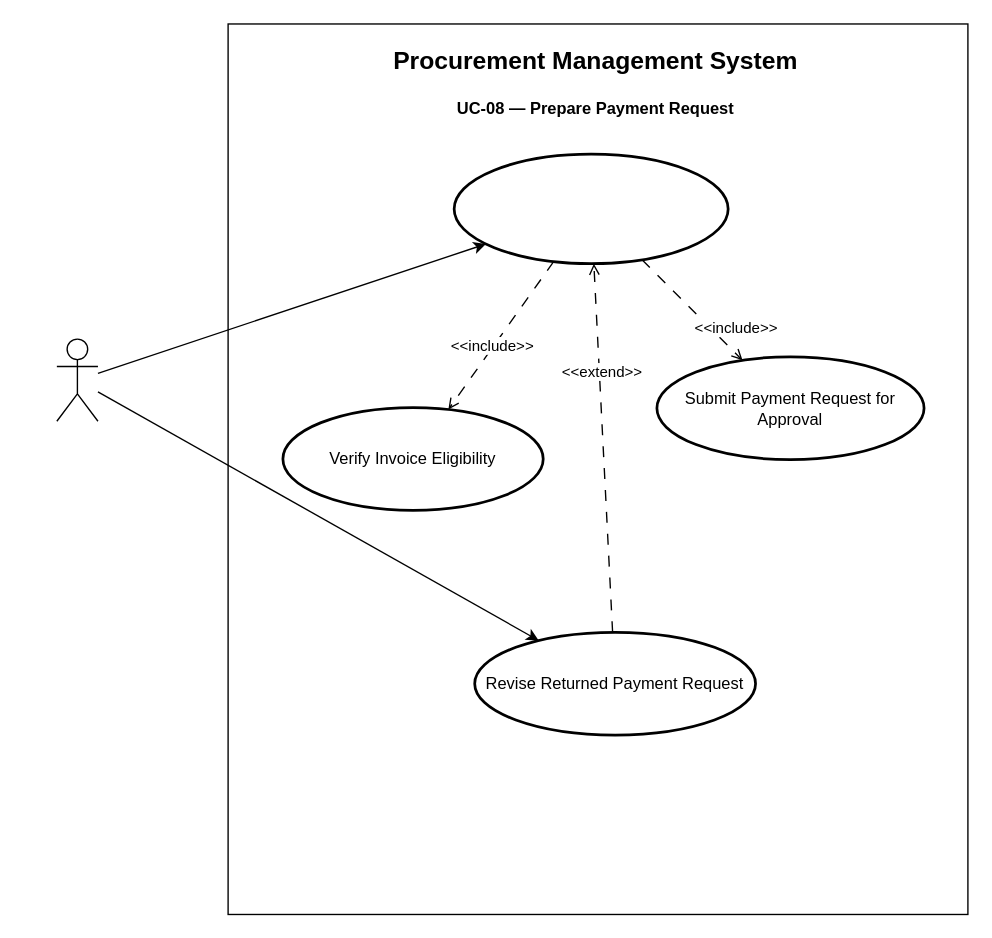
Image size: 992x938. Some labels were removed from this diagram. The centre of each missing label's shape, as x and y in pixels:
"AP Accountant" goes at point 76,379.
"Prepare Payment Request" goes at point 590,208.
